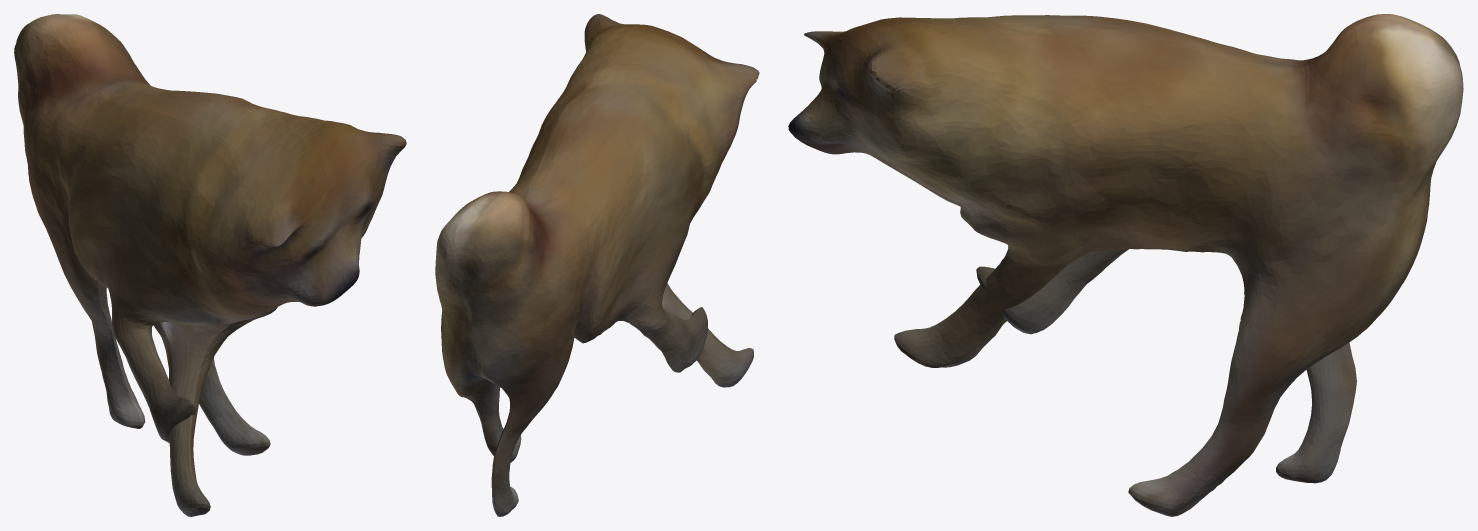
File: shiba-haru-1002-mesh-00010.obj
The picture shows the model from 3 angles, left to right: view 1: azimuth 30°, elevation 25°; view 2: azimuth 150°, elevation 25°; view 3: azimuth 270°, elevation 25°; orthographic projection. The views are drawn at different scales.
Bounding box in the file's own units: 0.0381 × 0.0756 × 0.0966.
